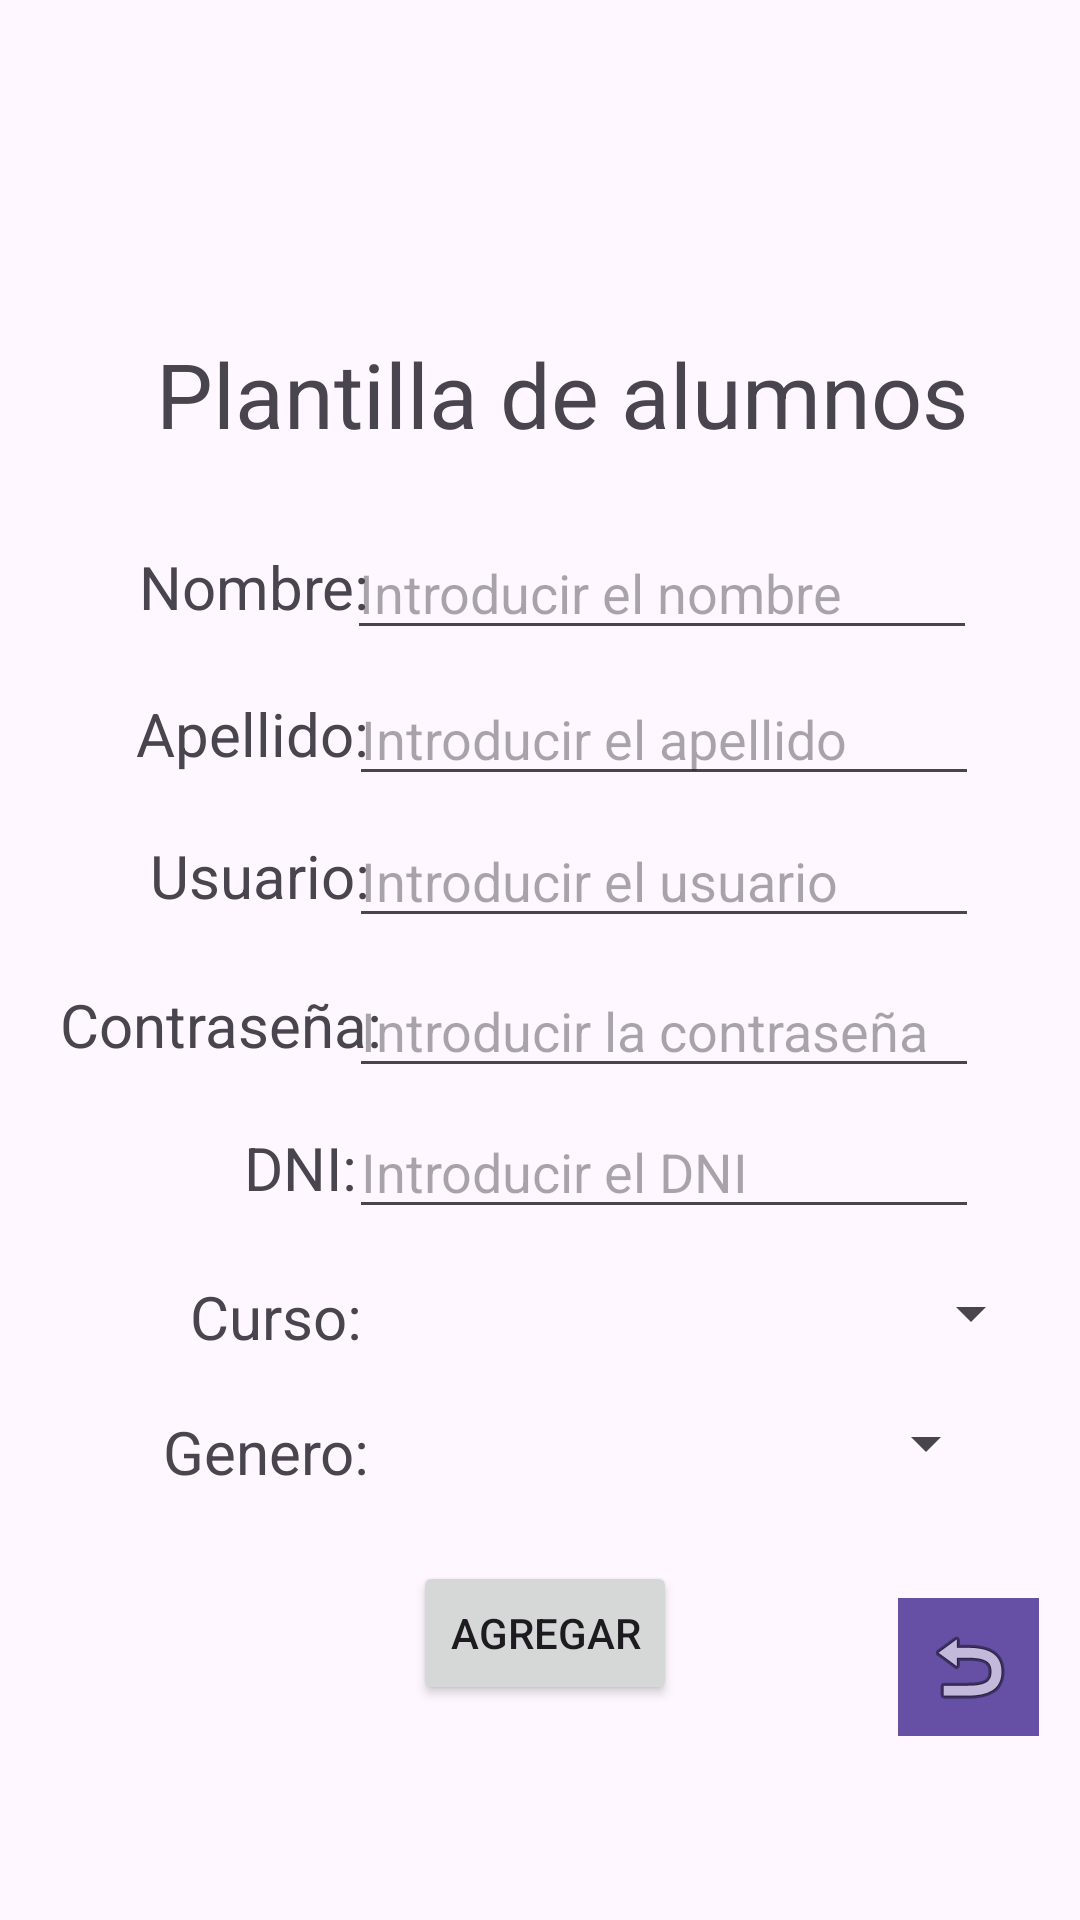

Named icons in this screenshot (1080px x 1920px) and their centers, (x=x, y=y):
revert: (x=968, y=1667)
